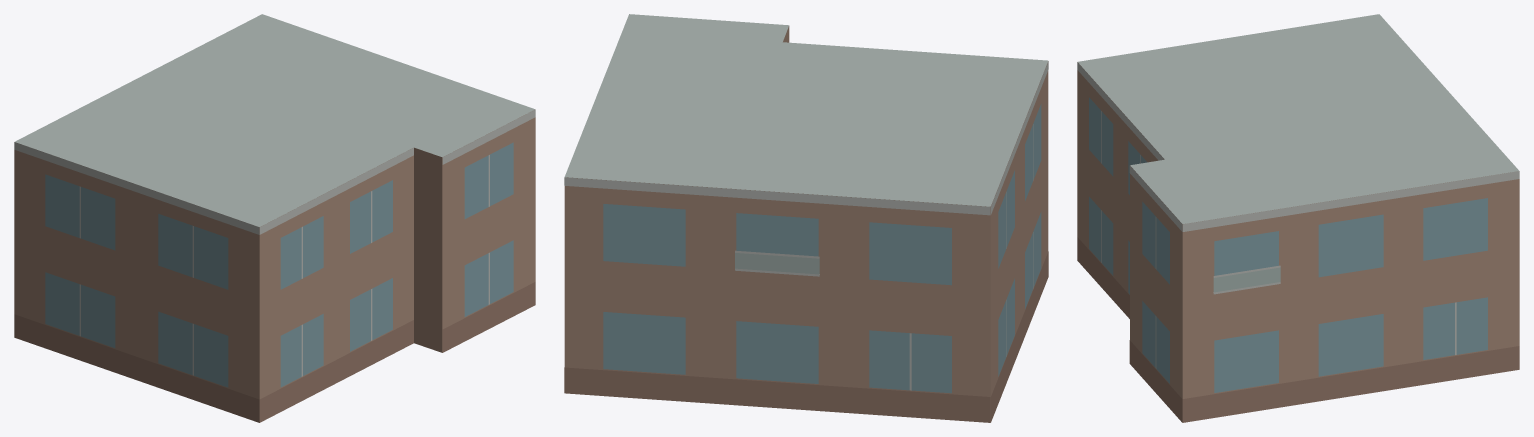
Rendered from survey-upis-32835778.glb.
3 renders of one model, left to right at view 1: azimuth 30°, elevation 25°; view 2: azimuth 150°, elevation 25°; view 3: azimuth 270°, elevation 25°, orthographic. The views are drawn at different scales.
Parts seen in each view (by area): view 1: survey-upis-32835778.tmp; view 2: survey-upis-32835778.tmp; view 3: survey-upis-32835778.tmp.
Part boxes in pixels (x1,y1,x2,y2): survey-upis-32835778.tmp: (14,14,535,422); survey-upis-32835778.tmp: (564,14,1048,422); survey-upis-32835778.tmp: (1077,14,1519,422).
Size of the model in its own units: 13.85 by 6.1 by 12.32.
